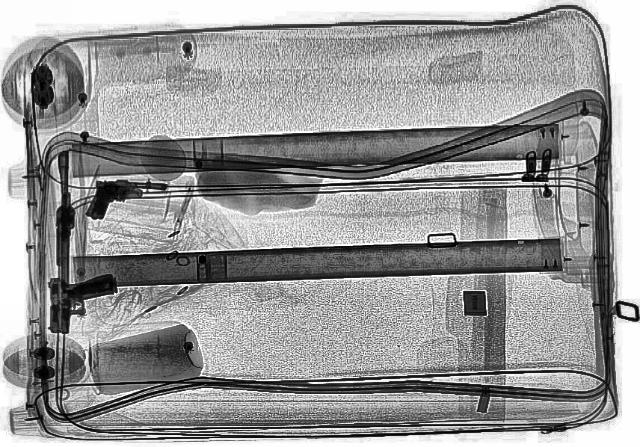Gun: (35, 268, 119, 338), (73, 169, 173, 219), (48, 150, 78, 294)
